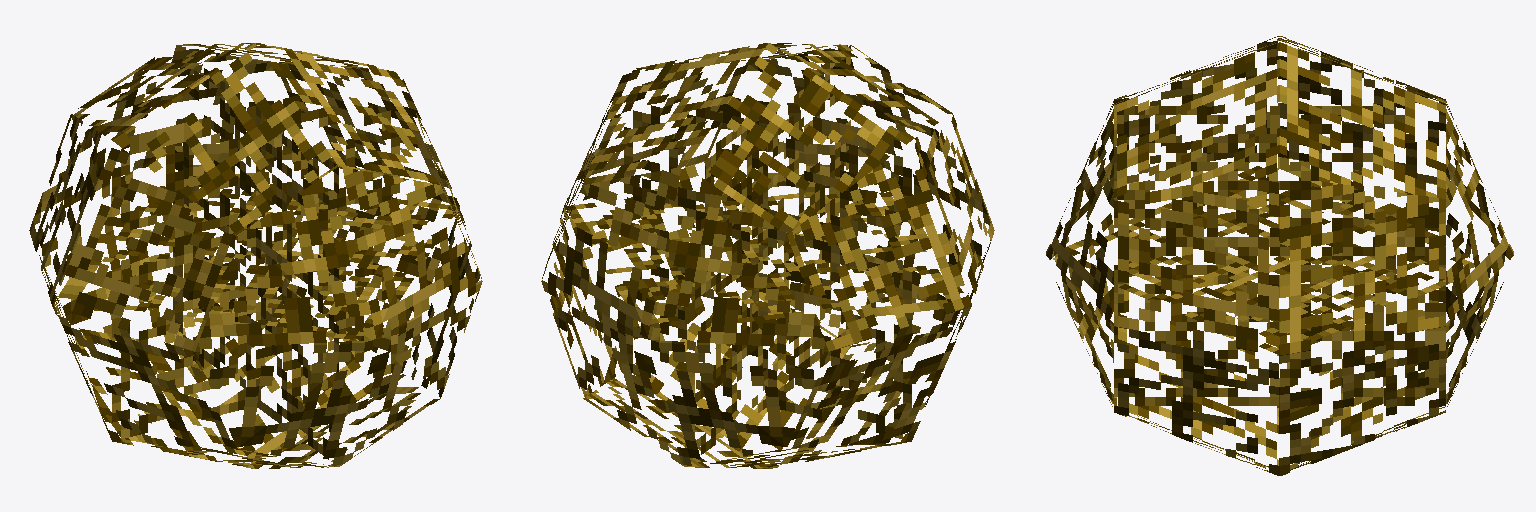
The picture shows the model from 3 angles: view 1: azimuth 30°, elevation 25°; view 2: azimuth 150°, elevation 25°; view 3: azimuth 270°, elevation 25°; orthographic projection.
Parts seen in each view (by area): view 1: DES_TUMBLEWEED; view 2: DES_TUMBLEWEED; view 3: DES_TUMBLEWEED.
Boxes of the visible parts, x1,y1,x2,y2 form: DES_TUMBLEWEED: [29, 43, 482, 468]; DES_TUMBLEWEED: [541, 43, 994, 468]; DES_TUMBLEWEED: [1046, 36, 1513, 475].
Bounding box in the file's own units: 15.25 × 15.25 × 15.25.
Materials: 1 (1 with a texture image).